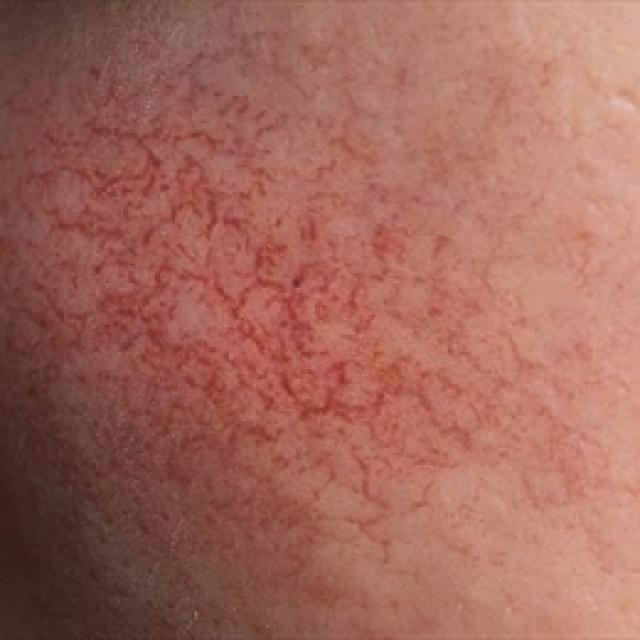Rosacea: (32, 59, 618, 559)
